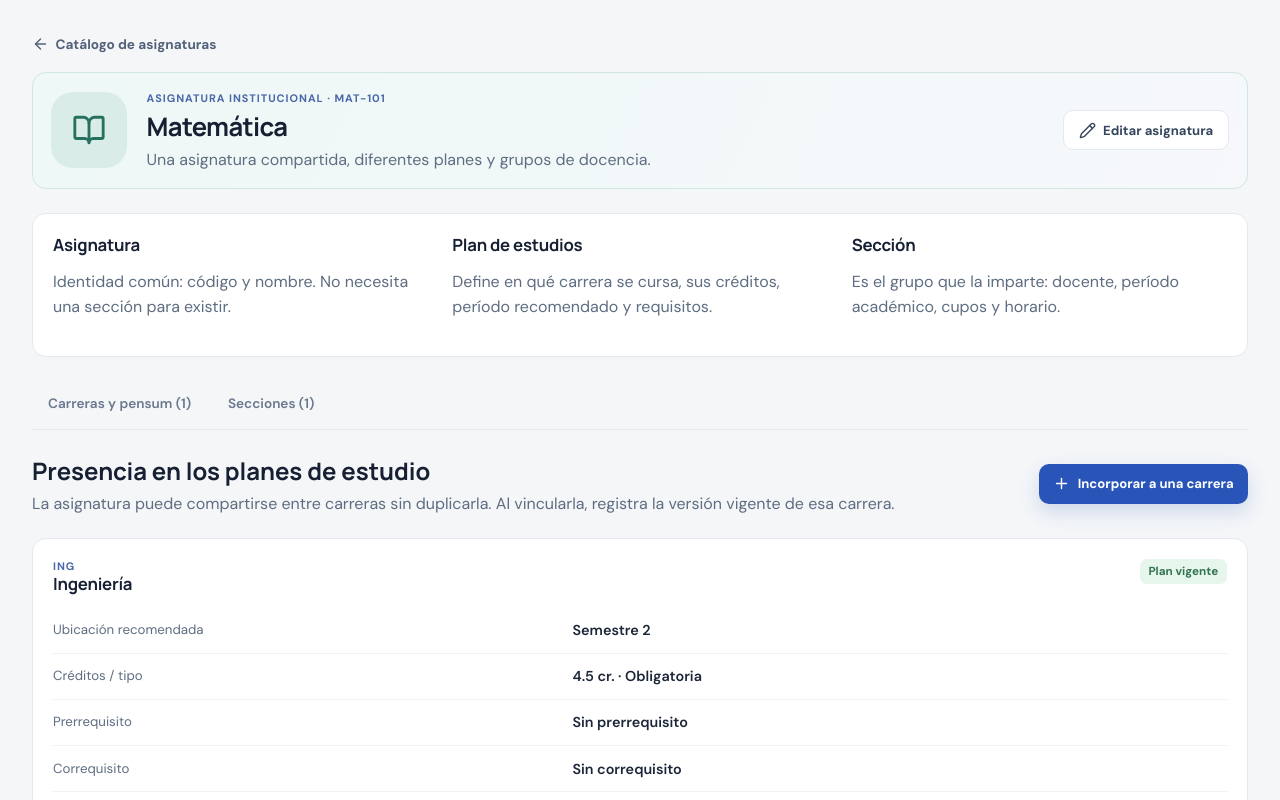
Test case: SubjectProgramPage › distinguishes the shared subject, its career plan and teaching sections
Expected: the heading "Matemática" is shown, x1=147 y1=109 x2=288 y2=144
Expected: the text "Semestre 2" is shown, x1=572 y1=621 x2=651 y2=639
Click the button "Secciones (1)" at [271, 405], box x1=212 y1=381 x2=330 y2=429
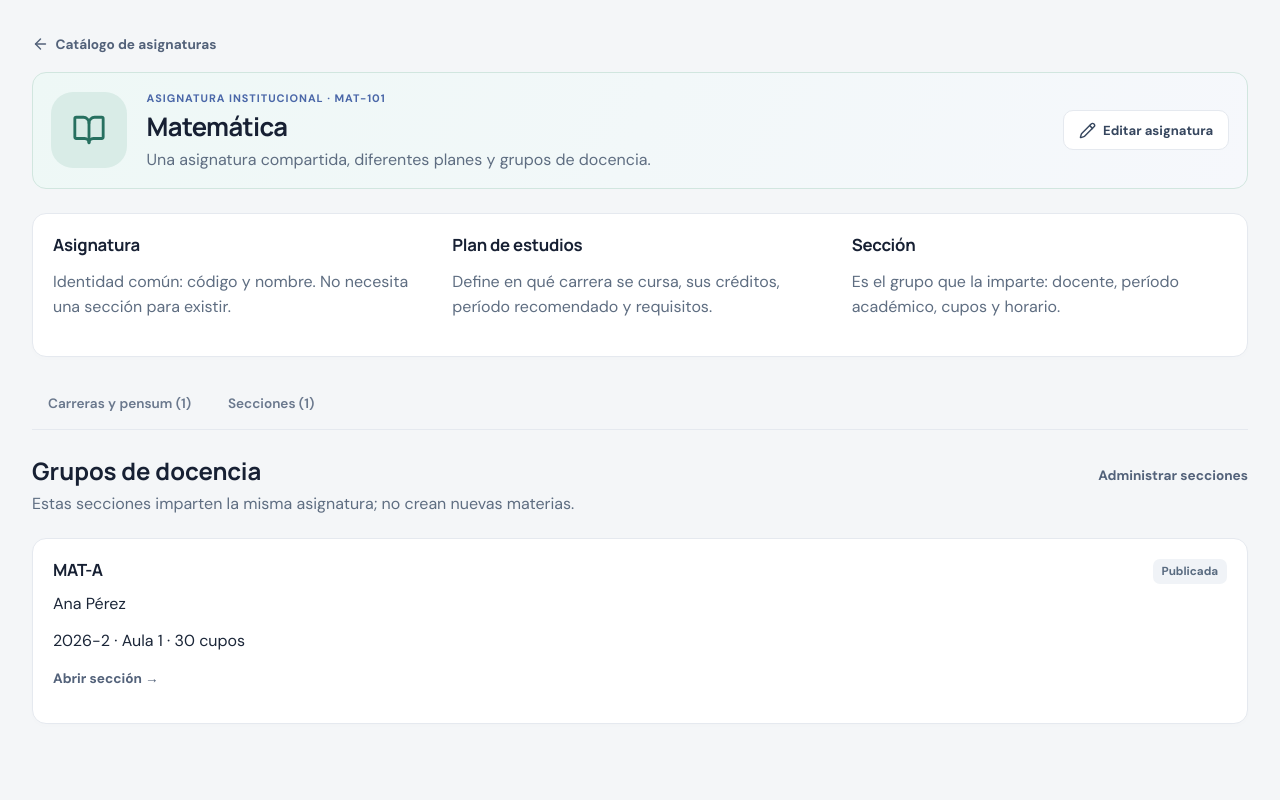
Now the text "Ana Pérez" is shown, box x1=53 y1=594 x2=126 y2=614
